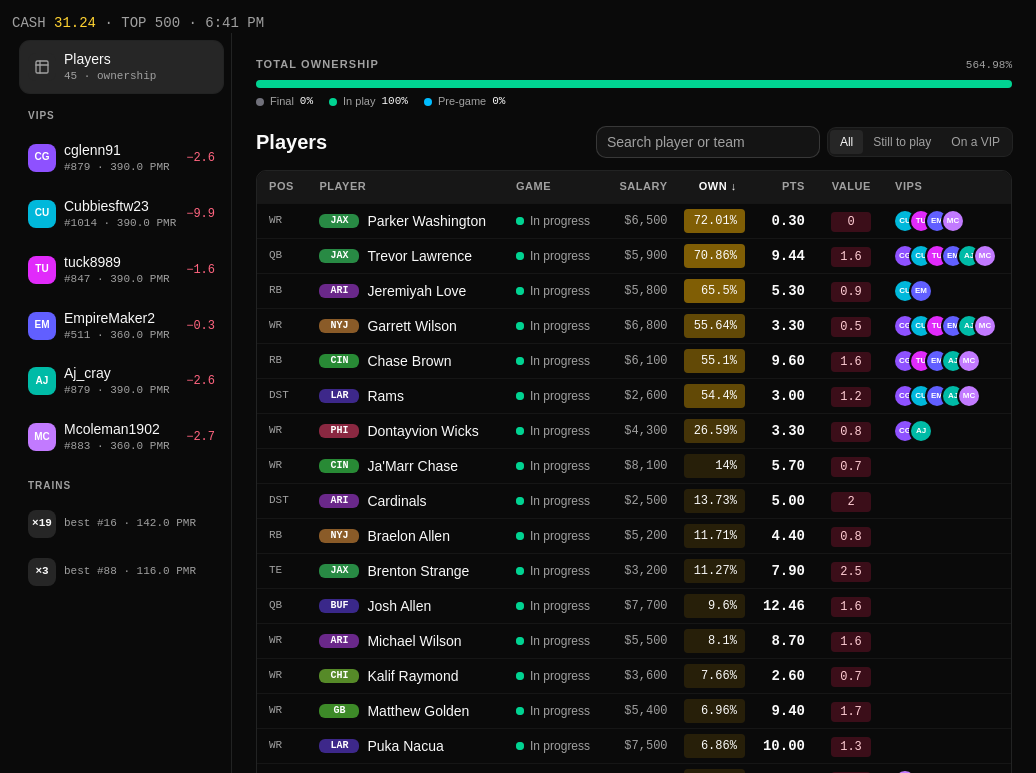
Scenario: rail › opens a train from its rail row and keeps it in the URL
This screenshot has width=1036, height=773.
Click the link "×3 best #88 · 116.0 PMR" at [112, 572], box x1=28 y1=558 x2=196 y2=586
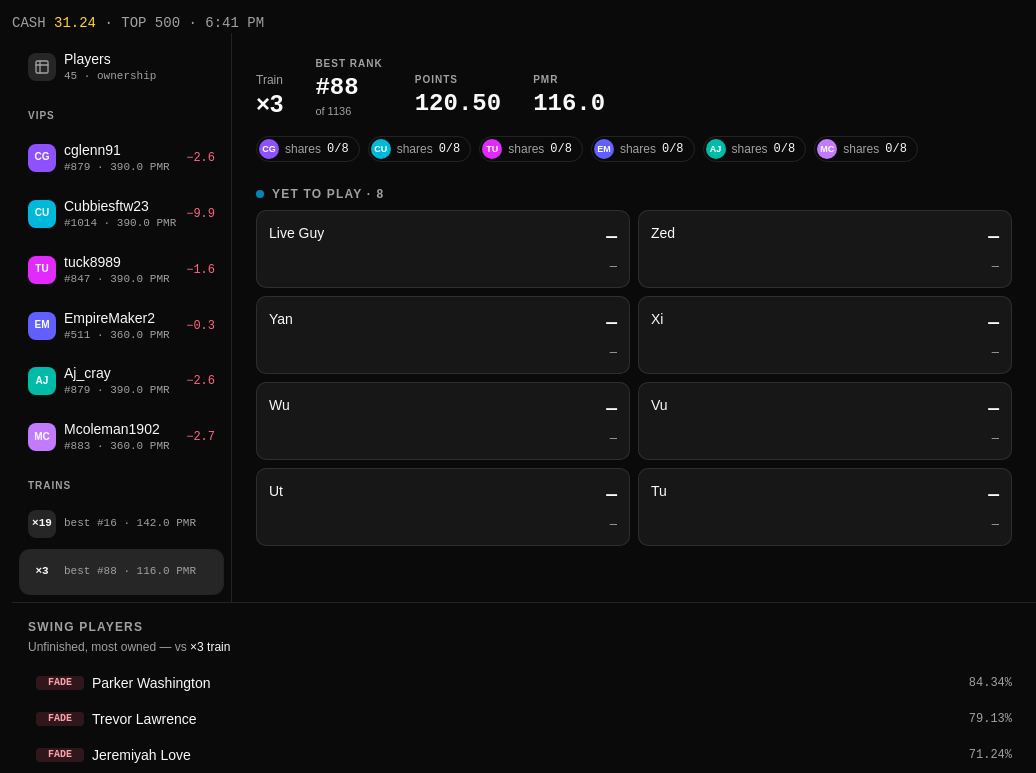
Now the heading "×3" is shown, box x1=256 y1=88 x2=283 y2=120
